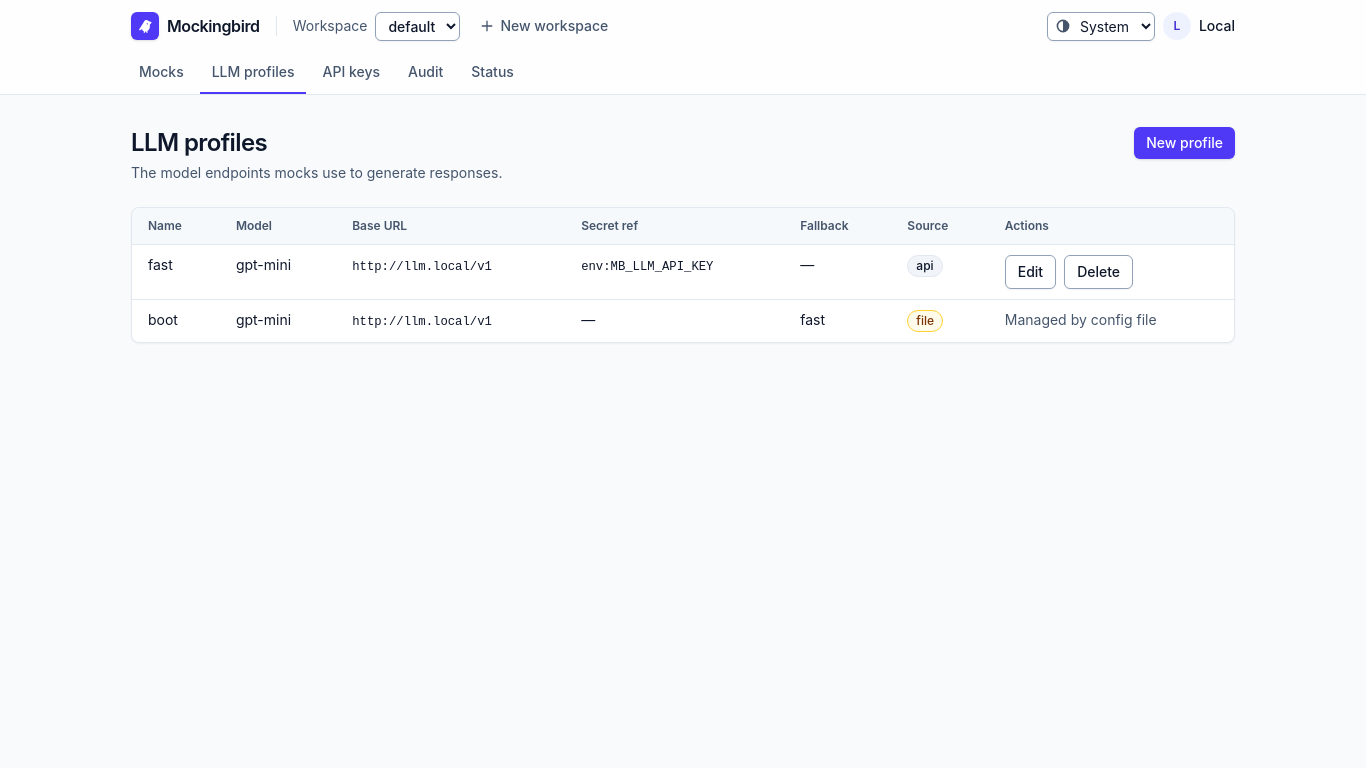
Test case: llm profiles › closing the editor gives focus back to the Edit button
Click the button with aria-label "Edit fast": (1030, 272) [1005, 255, 1056, 289]
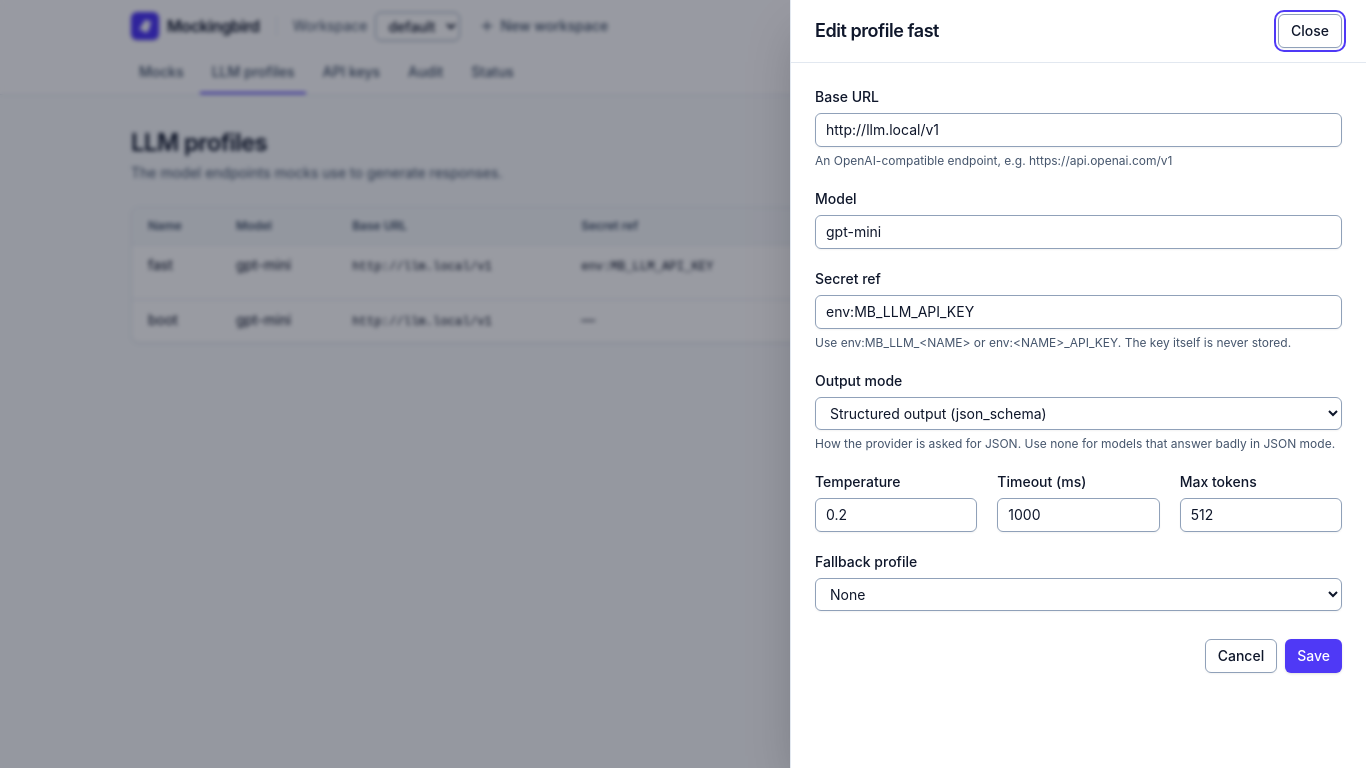
Expected: the dialog "Edit profile fast" is shown, [790, 0, 1365, 767]
Press Escape
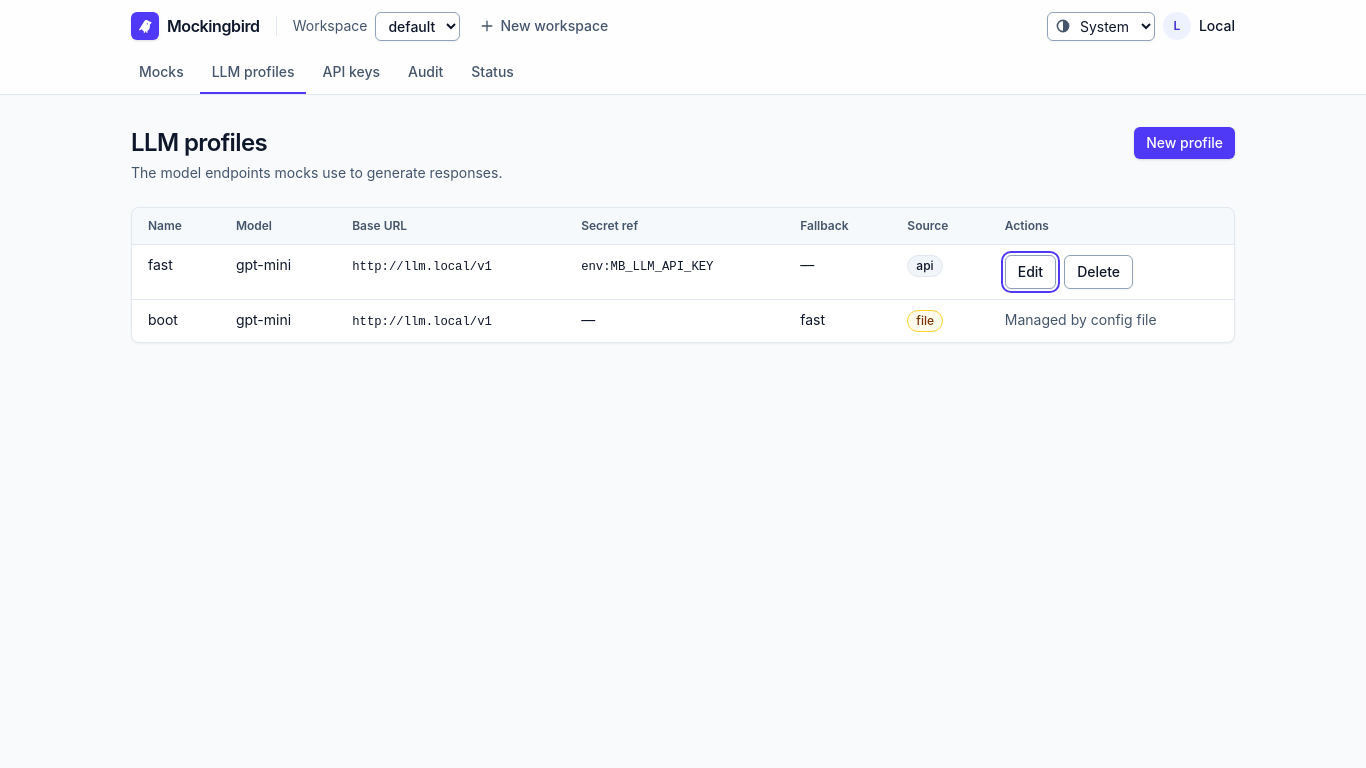
Expected: the dialog is gone
